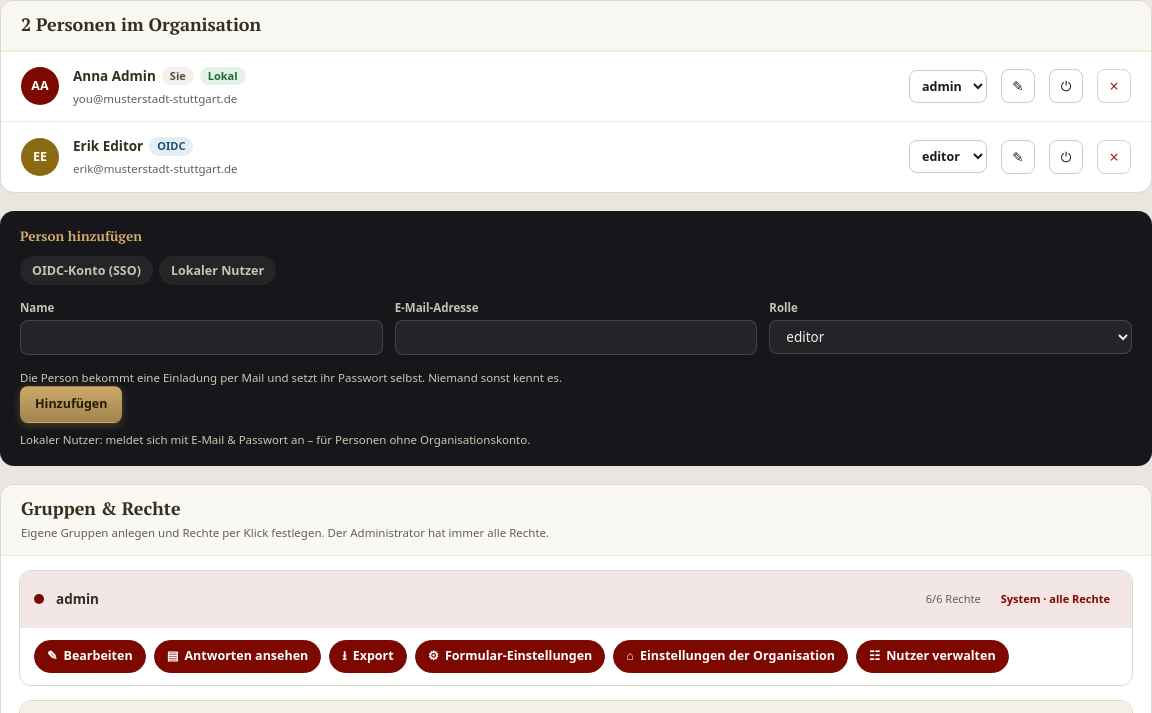
Nutzerrechte (Tenant-Ebene) › says the same about your own last Organisation
The width and height of the screenshot is (1152, 713).
Check: the text "Anna Admin" is shown, box [73,66,156,86]
Click the button named "Anna Admin entfernen" at (1114, 86), box [1097,69,1131,103]
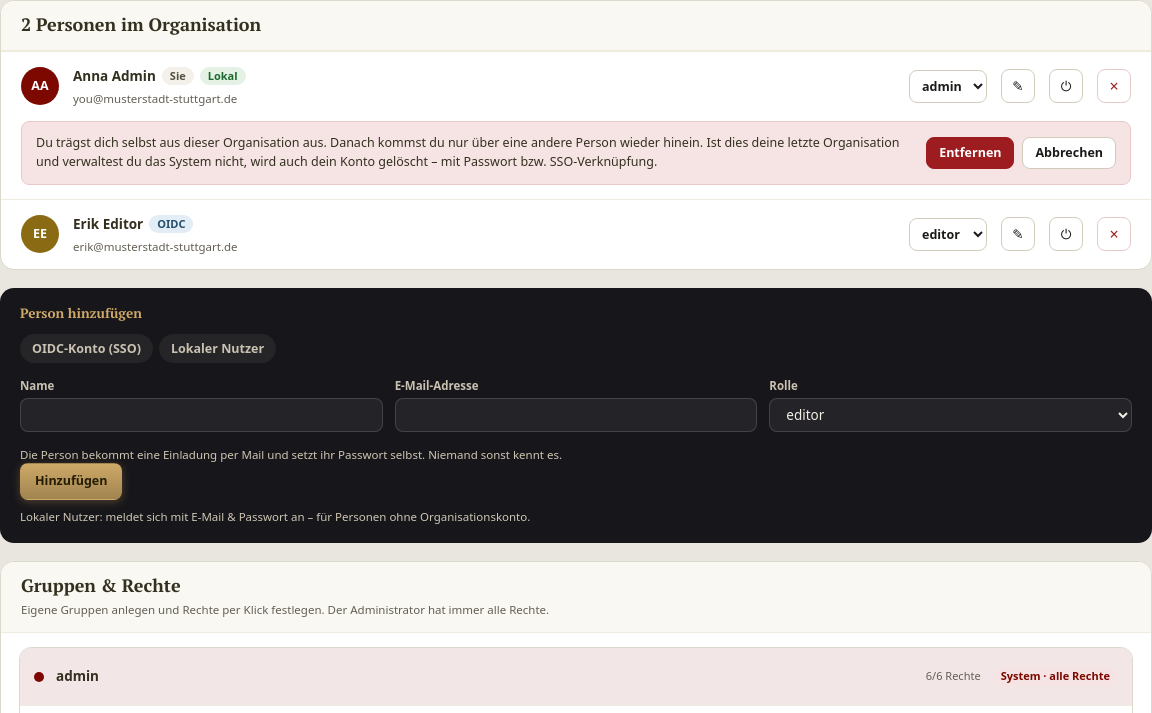
Check: the text "Ist dies deine letzte Organisation und verwaltest du das System nicht, wird auch dein Konto gelöscht" is shown, box [36,134,900,170]
